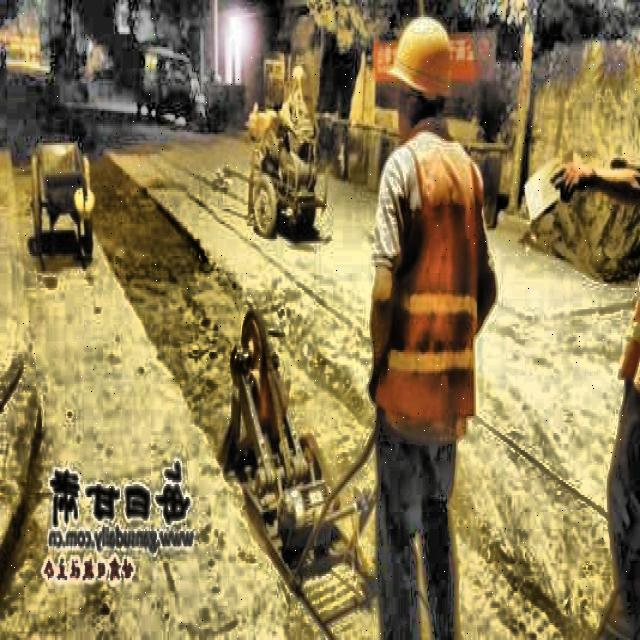helmet: (392, 11, 457, 115)
